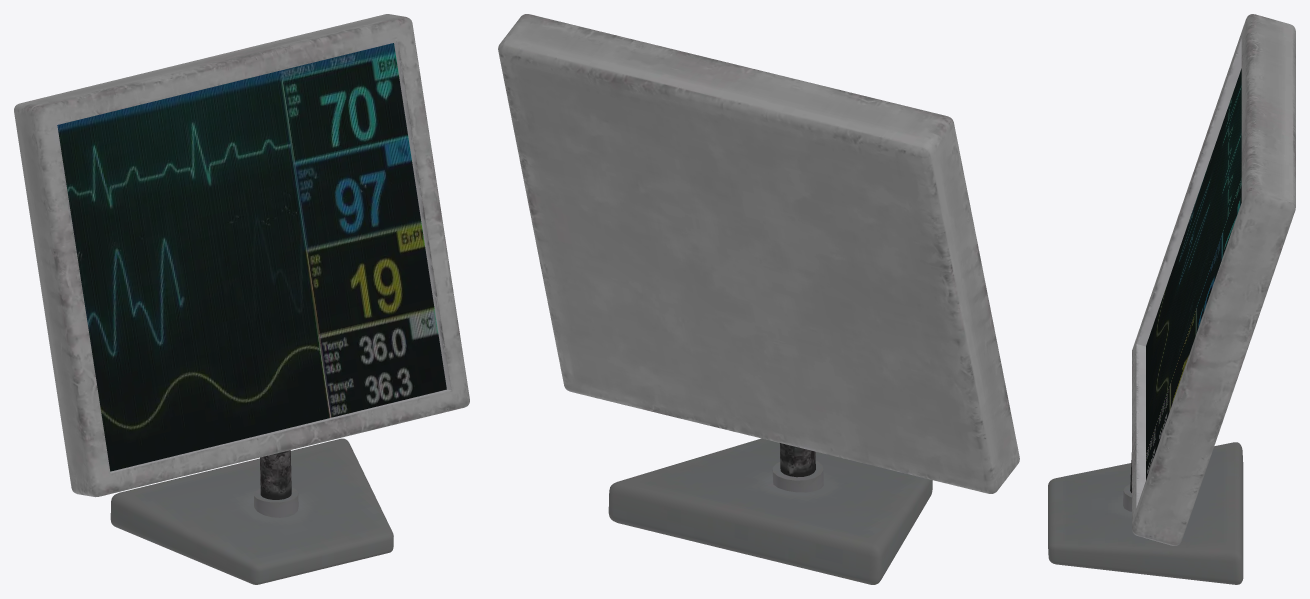
Rendered from vitals_monitor.glb.
3 renders of one model, left to right at view 1: azimuth 30°, elevation 25°; view 2: azimuth 150°, elevation 25°; view 3: azimuth 270°, elevation 25°, orthographic. The views are drawn at different scales.
Parts seen in each view (by area): view 1: defaultMaterial; view 2: defaultMaterial; view 3: defaultMaterial.
Boxes of the visible parts, x1=… form: defaultMaterial: x1=14, y1=14, x2=469, y2=584; defaultMaterial: x1=498, y1=14, x2=1019, y2=584; defaultMaterial: x1=1048, y1=14, x2=1295, y2=584.
Bounding box in the file's own units: 0.4388 × 0.4798 × 0.2513.
1 material, 1 textured.
